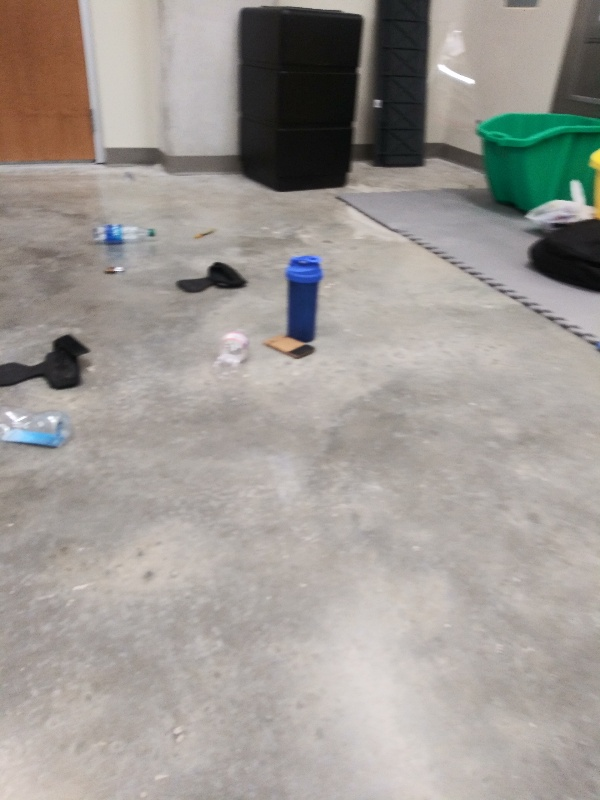bottle: (1, 394, 74, 455), (211, 322, 257, 387), (90, 218, 159, 249)
